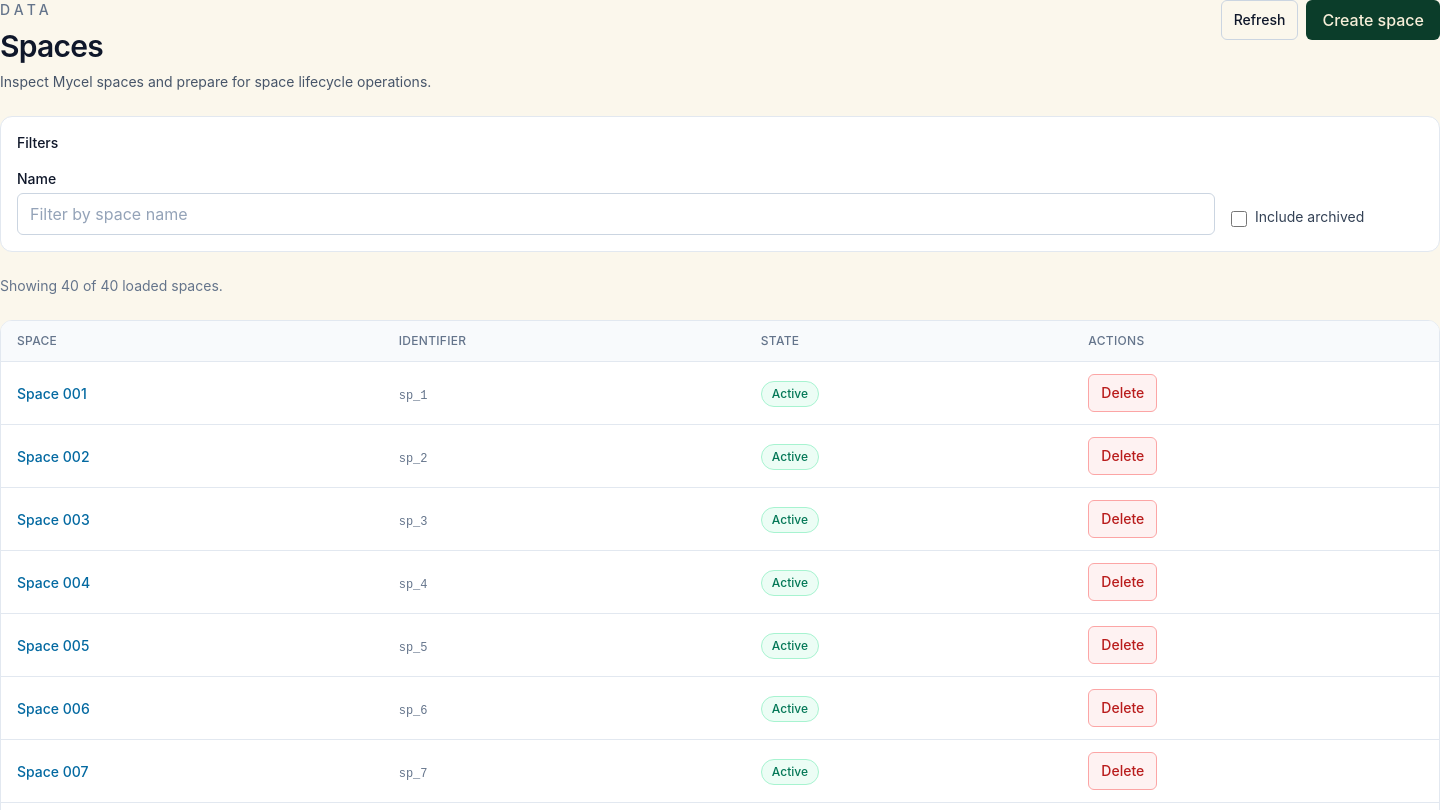
Test: uses the plain empty state when a name search miss covered all loaded spaces
Expected: the link "Space 001" is shown, [17,385,87,402]
Step 1. Type "Missing space" into the field labelled "Name" → (616, 214), box [17,193,1215,235]
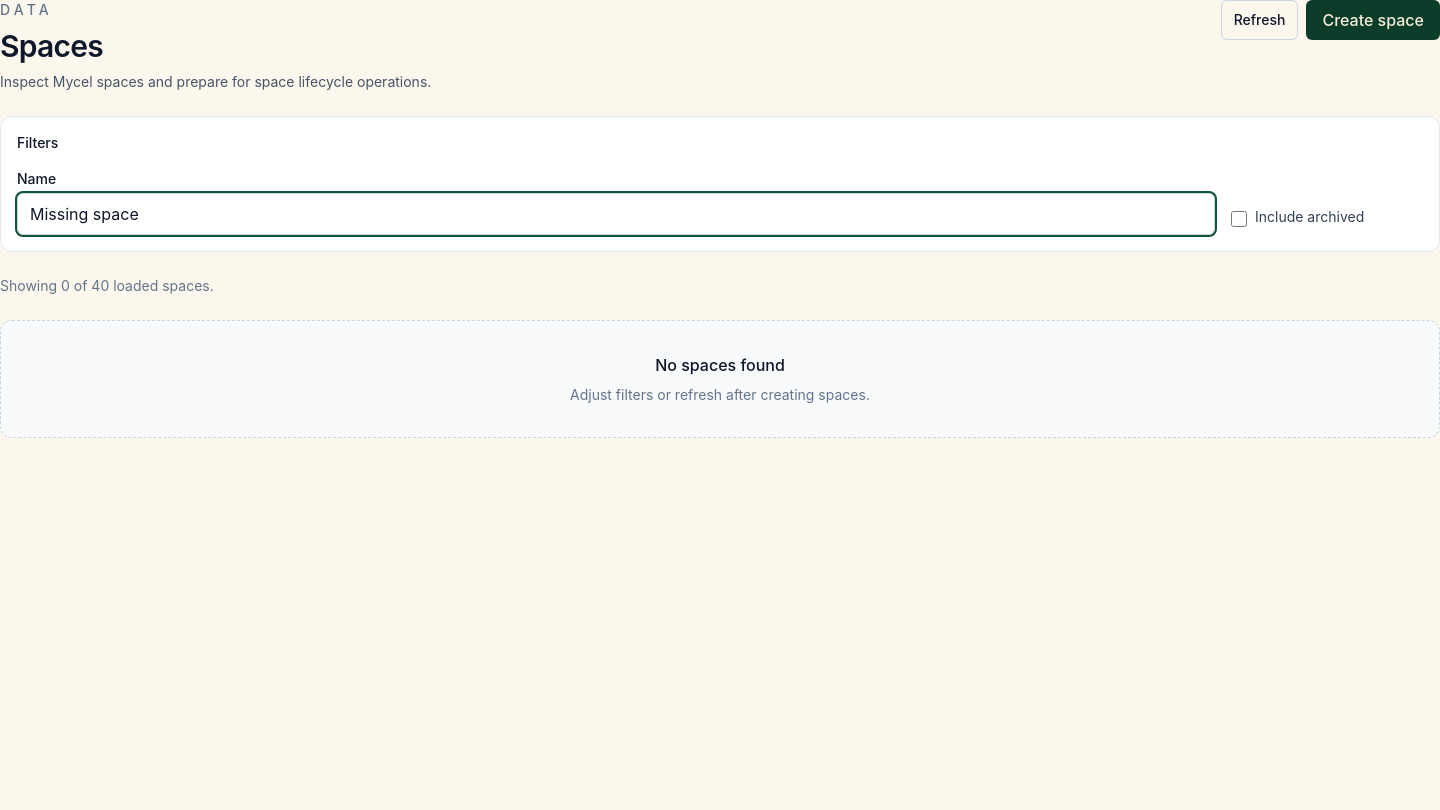
Now the text "Showing 0 of 40 loaded spaces." is shown, box [0,277,214,294]
Now the text "No spaces found" is shown, box [655,355,785,375]
